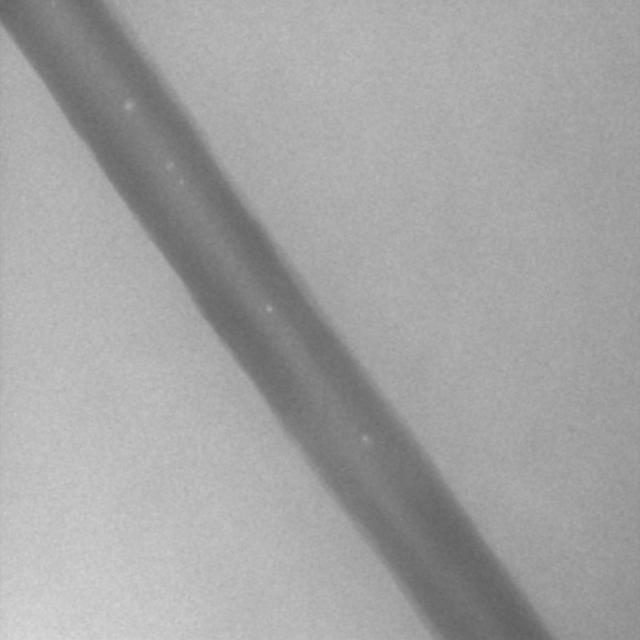air hole: (122, 99, 133, 113), (361, 432, 371, 447), (263, 302, 275, 314)
